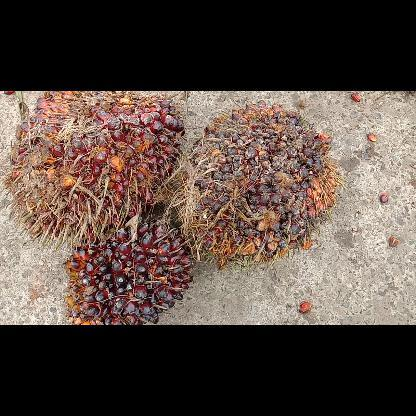Kurang masak: (190, 99, 340, 269), (66, 220, 194, 324)
TBS masak: (9, 90, 184, 238)
